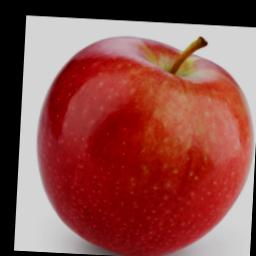Apple Ripe: (38, 27, 256, 256)
